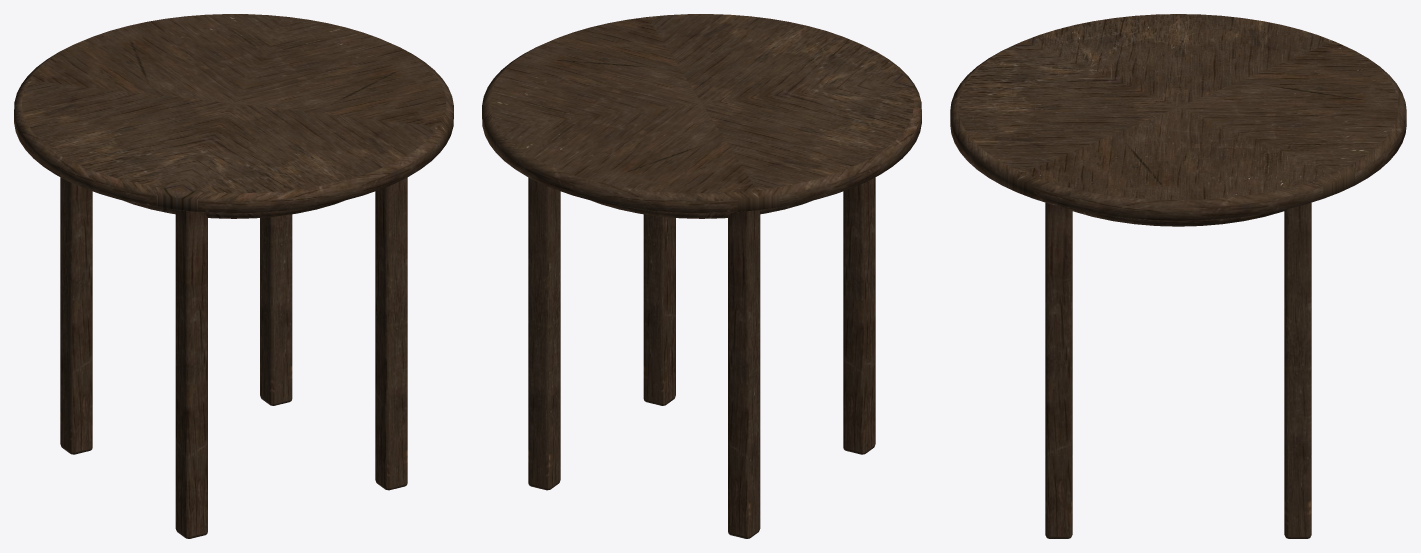
Rendered from PROP_MorningWhite_Table_Round.glb.
The picture shows the model from 3 angles, left to right: view 1: azimuth 30°, elevation 25°; view 2: azimuth 150°, elevation 25°; view 3: azimuth 270°, elevation 25°; orthographic projection. The views are drawn at different scales.
Parts seen in each view (by area): view 1: PROP_MorningWhite_Table_Round; view 2: PROP_MorningWhite_Table_Round; view 3: PROP_MorningWhite_Table_Round.
Part boxes in pixels (box(x1,y1,x2,y2)): PROP_MorningWhite_Table_Round: box(14, 14, 453, 538); PROP_MorningWhite_Table_Round: box(482, 14, 921, 538); PROP_MorningWhite_Table_Round: box(950, 14, 1406, 538).
Bounding box in the file's own units: 0.84 × 0.766 × 0.84.
1 material, 1 textured.
